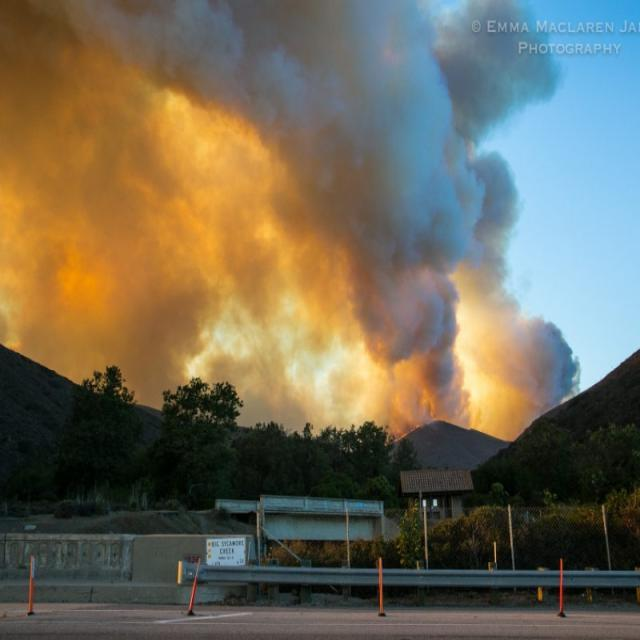Smoke: (0, 0, 591, 464)
